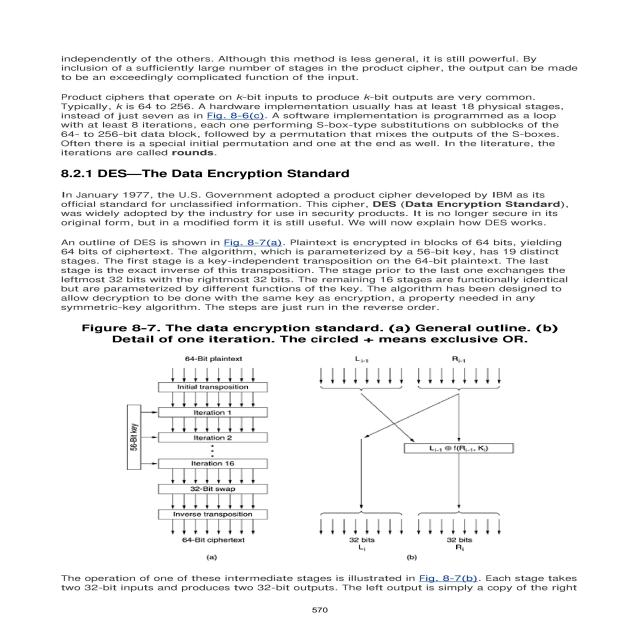diagram: (75, 318, 551, 555)
